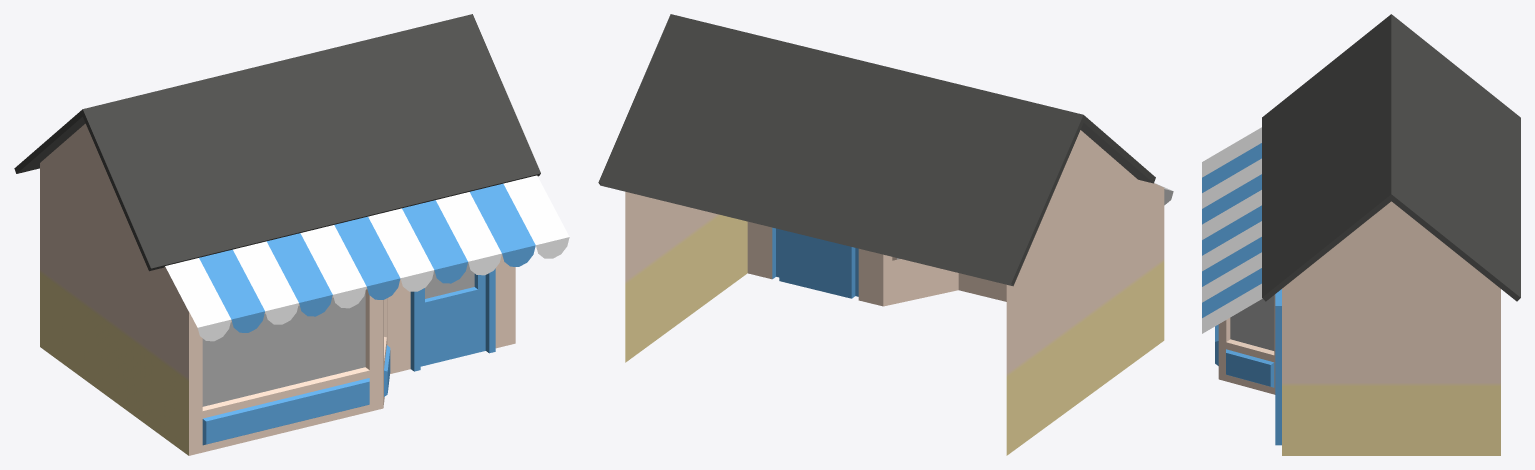
Rendered from house.fbx.
3 renders of one model, left to right at view 1: azimuth 30°, elevation 25°; view 2: azimuth 150°, elevation 25°; view 3: azimuth 270°, elevation 25°, orthographic. The views are drawn at different scales.
Parts seen in each view (by area): view 1: house; view 2: house; view 3: house.
Part boxes in pixels (x1,y1,x2,y2): house: (14, 14, 569, 455); house: (598, 14, 1173, 455); house: (1202, 14, 1520, 455).
Bounding box in the file's own units: 616 × 428 × 460.
1 material, 1 textured.
